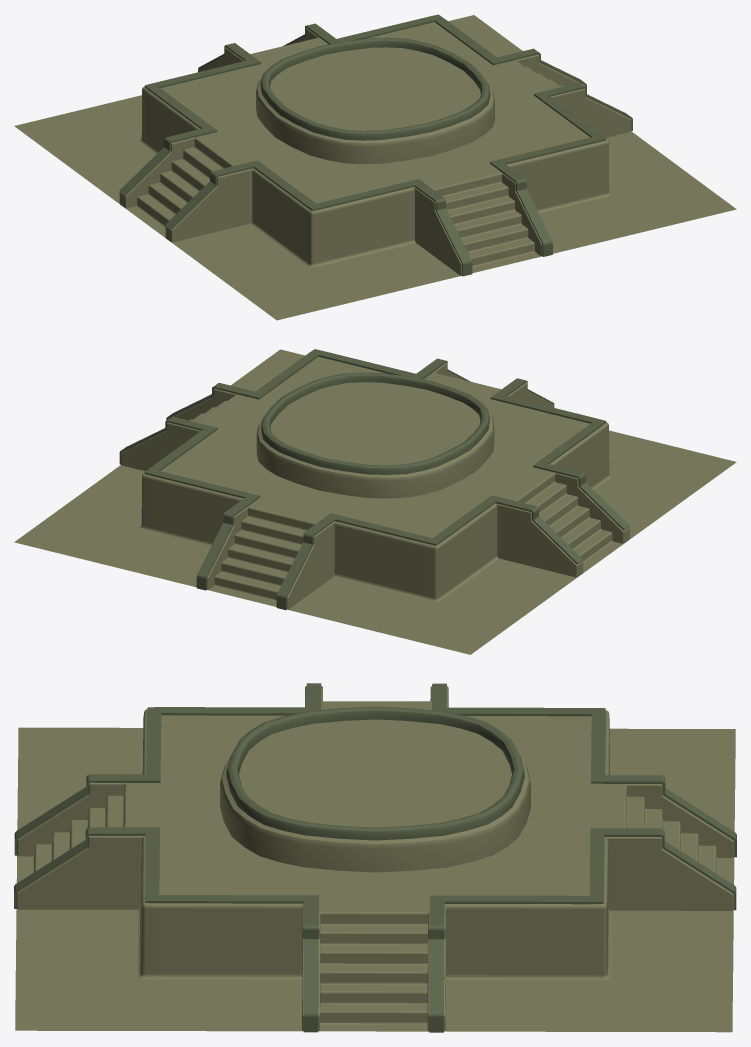
Rendered from Disco_Solar.fbx.
3 renders of one model, top to bottom at view 1: azimuth 30°, elevation 25°; view 2: azimuth 150°, elevation 25°; view 3: azimuth 270°, elevation 25°, orthographic. The views are drawn at different scales.
Parts seen in each view (by area): view 1: Disco_Solar; view 2: Disco_Solar; view 3: Disco_Solar.
Part boxes in pixels (x1,y1,x2,y2): Disco_Solar: (14,14,736,320); Disco_Solar: (14,349,736,654); Disco_Solar: (14,683,736,1032).
Bounding box in the file's own units: 5.92 × 1.02 × 5.93.
